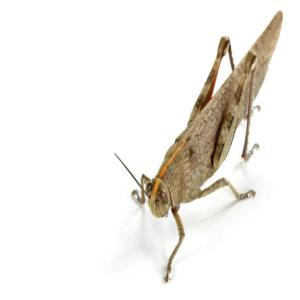locust: (122, 6, 286, 278)
